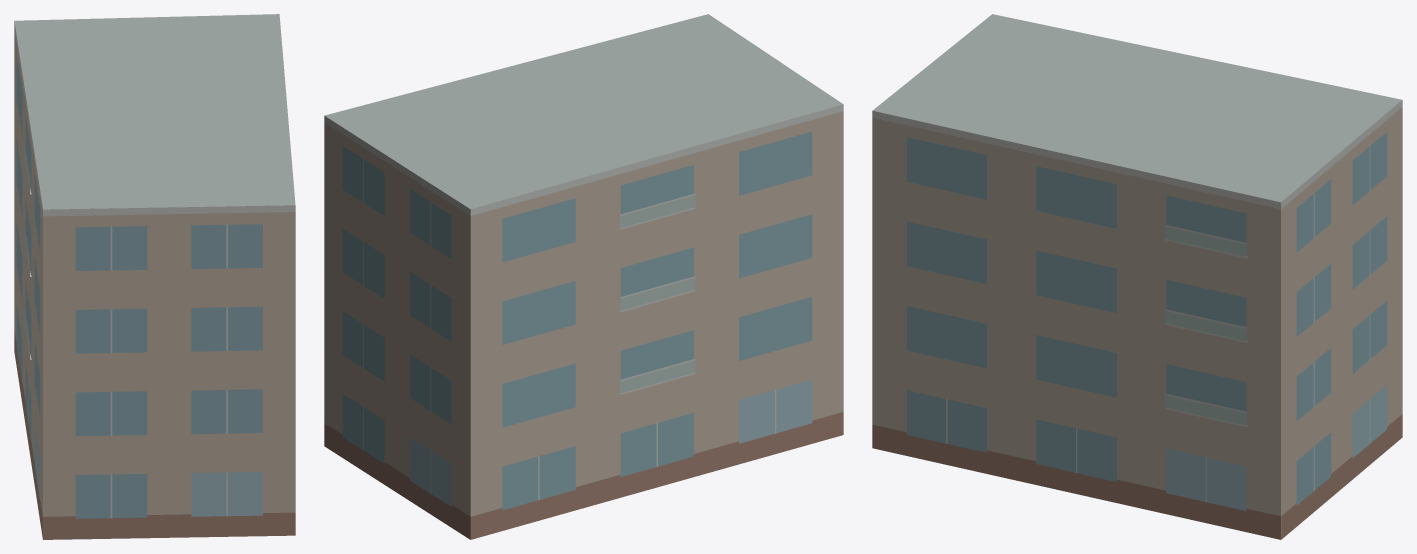
File: survey-upis-32727852.glb
3 views of the same model, side by side, from view 1: azimuth 30°, elevation 25°; view 2: azimuth 150°, elevation 25°; view 3: azimuth 270°, elevation 25° (orthographic). The views are drawn at different scales.
Visible parts, largest first — view 1: survey-upis-32727852.tmp; view 2: survey-upis-32727852.tmp; view 3: survey-upis-32727852.tmp.
Part boxes in pixels (x1,y1,x2,y2): survey-upis-32727852.tmp: (14,14,295,539); survey-upis-32727852.tmp: (324,14,843,539); survey-upis-32727852.tmp: (872,14,1402,539).
Bounding box in the file's own units: 14.25 × 11.9 × 16.95.
